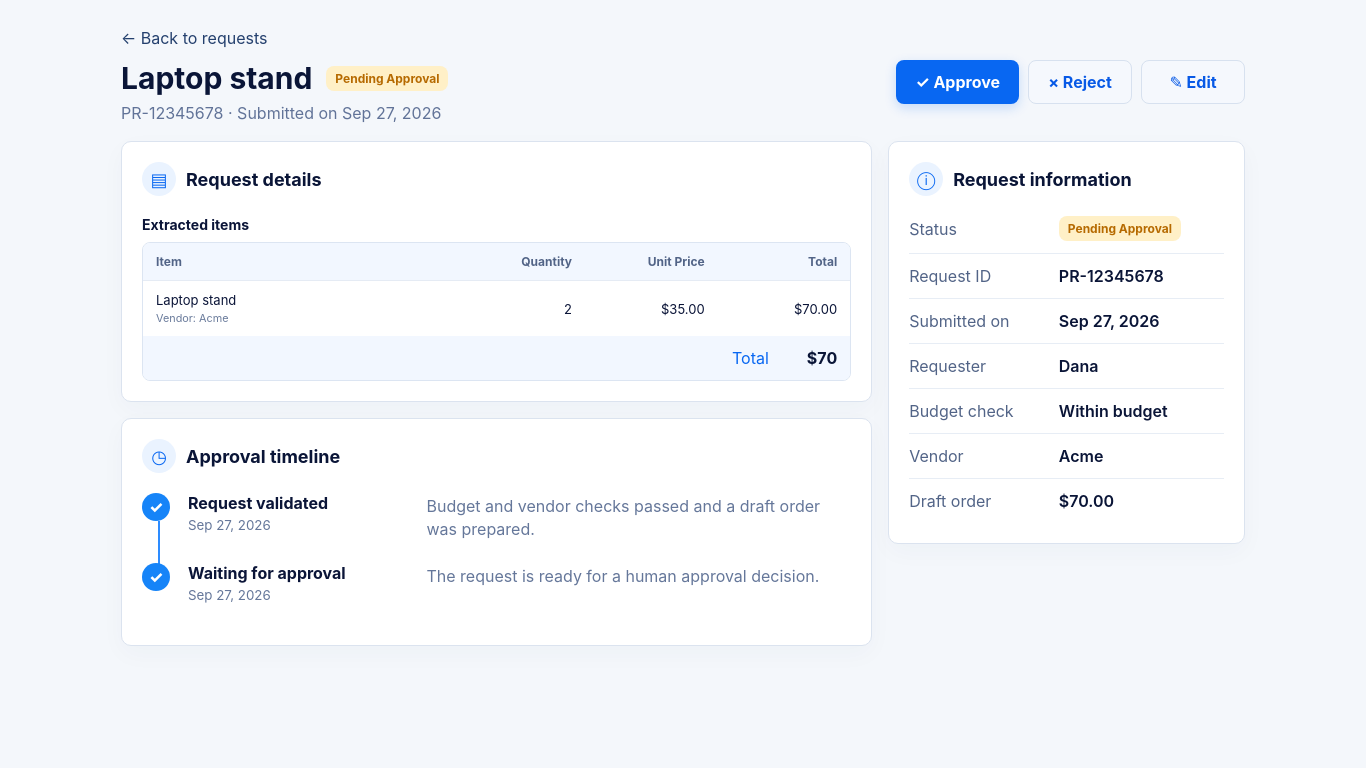
Scenario: RequestDetail › opens and closes approval actions for pending requests
expect the heading "Laptop stand" is shown: met, box [121,60,312,96]
Click the button "✓ Approve": [958, 82] box [896,60,1019,104]
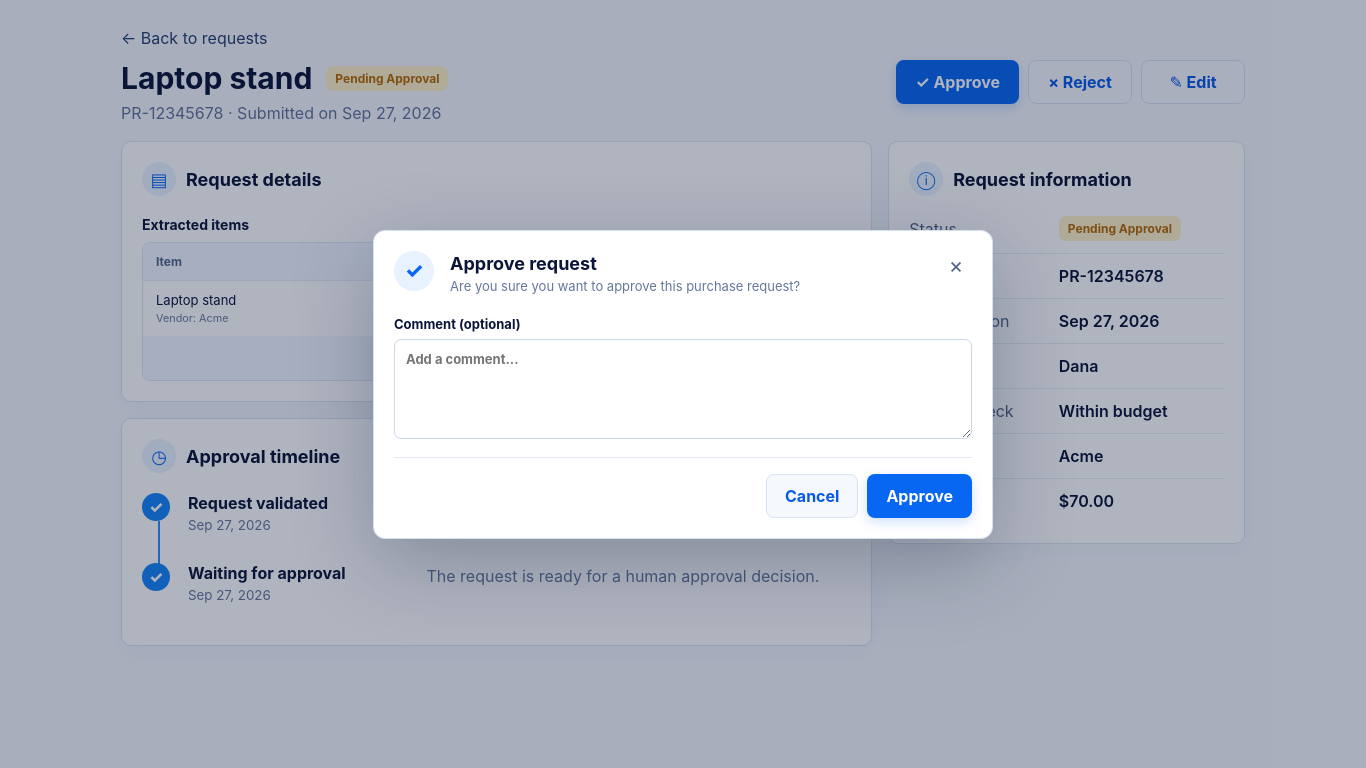
expect the dialog "Approve request" is shown: met, box [373,230,993,538]
Click the button named "Close dialog": [956, 264] box [940,250,972,278]
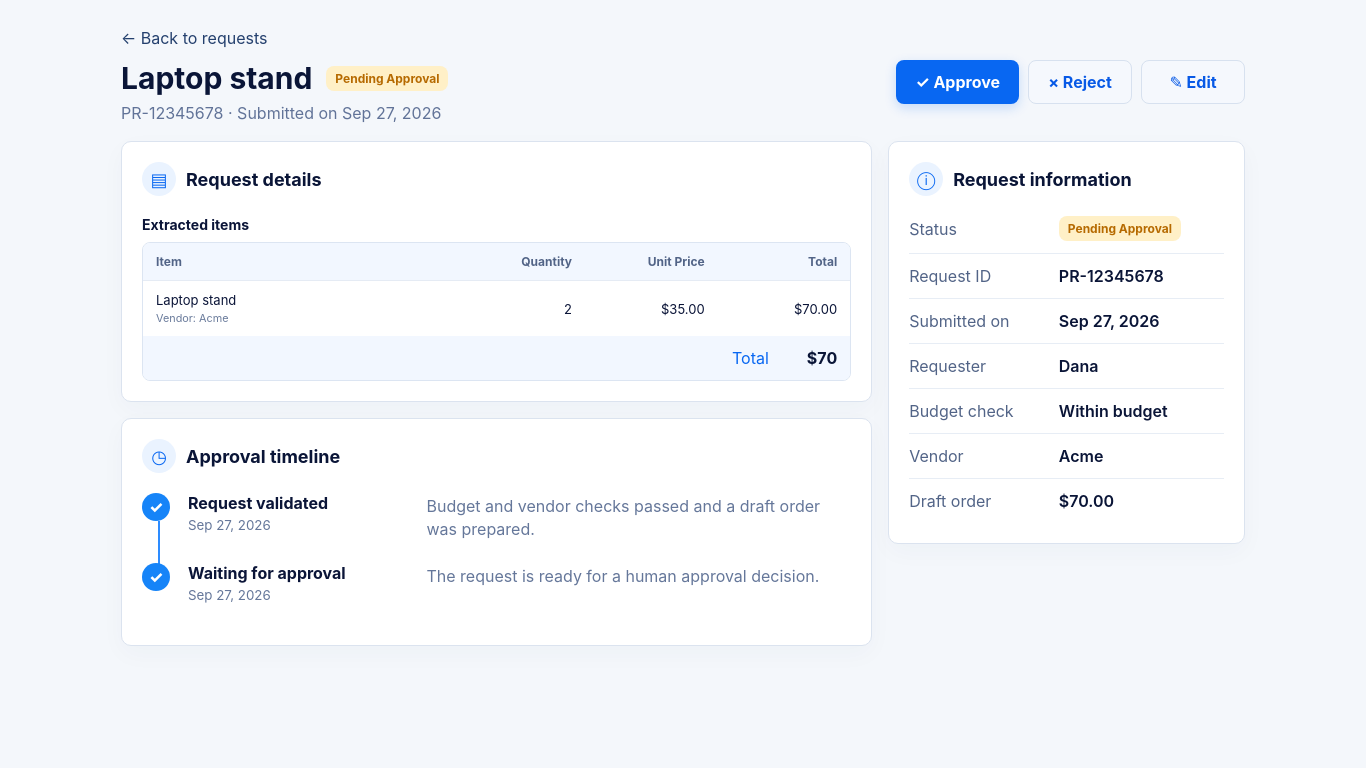
expect the dialog is gone: met
